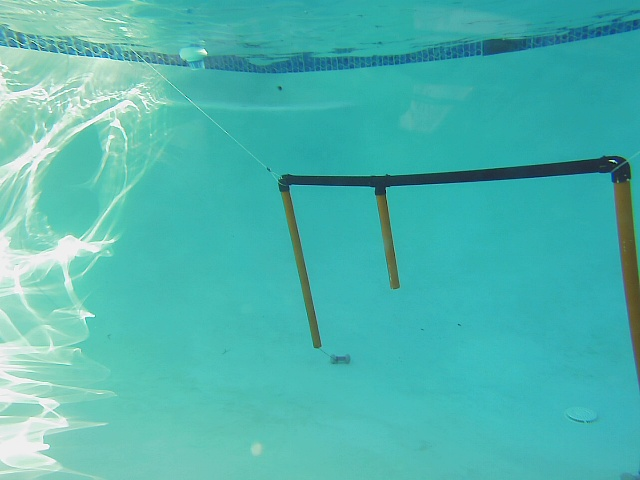Gate: (273, 189, 323, 352), (610, 175, 640, 377), (372, 189, 401, 291)
